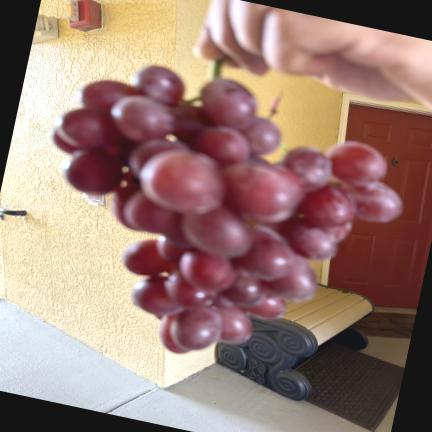grape_cluster: (53, 60, 402, 353)
